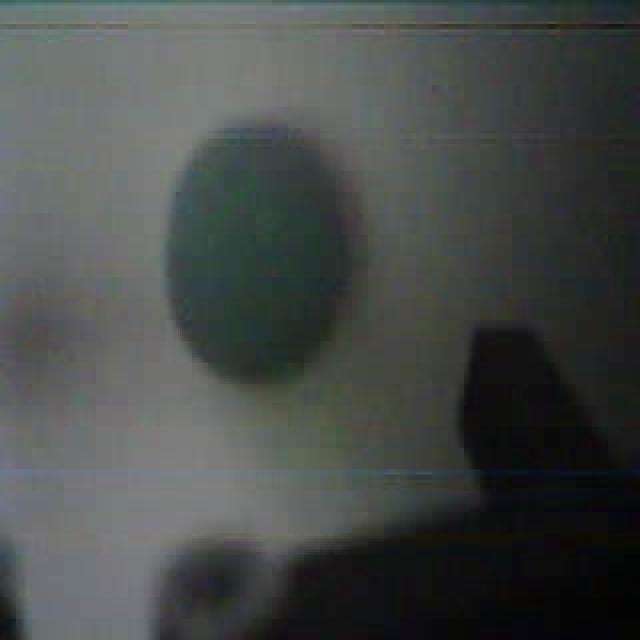green_ball: (160, 120, 358, 387)
